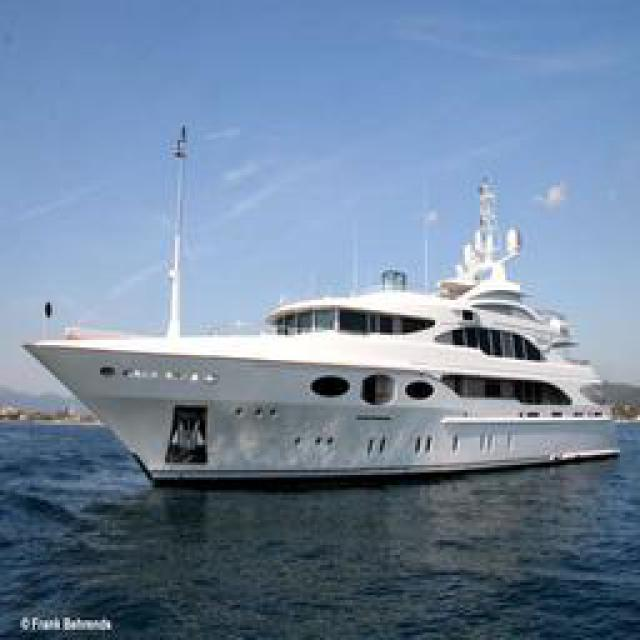Ship: (22, 130, 620, 480)
